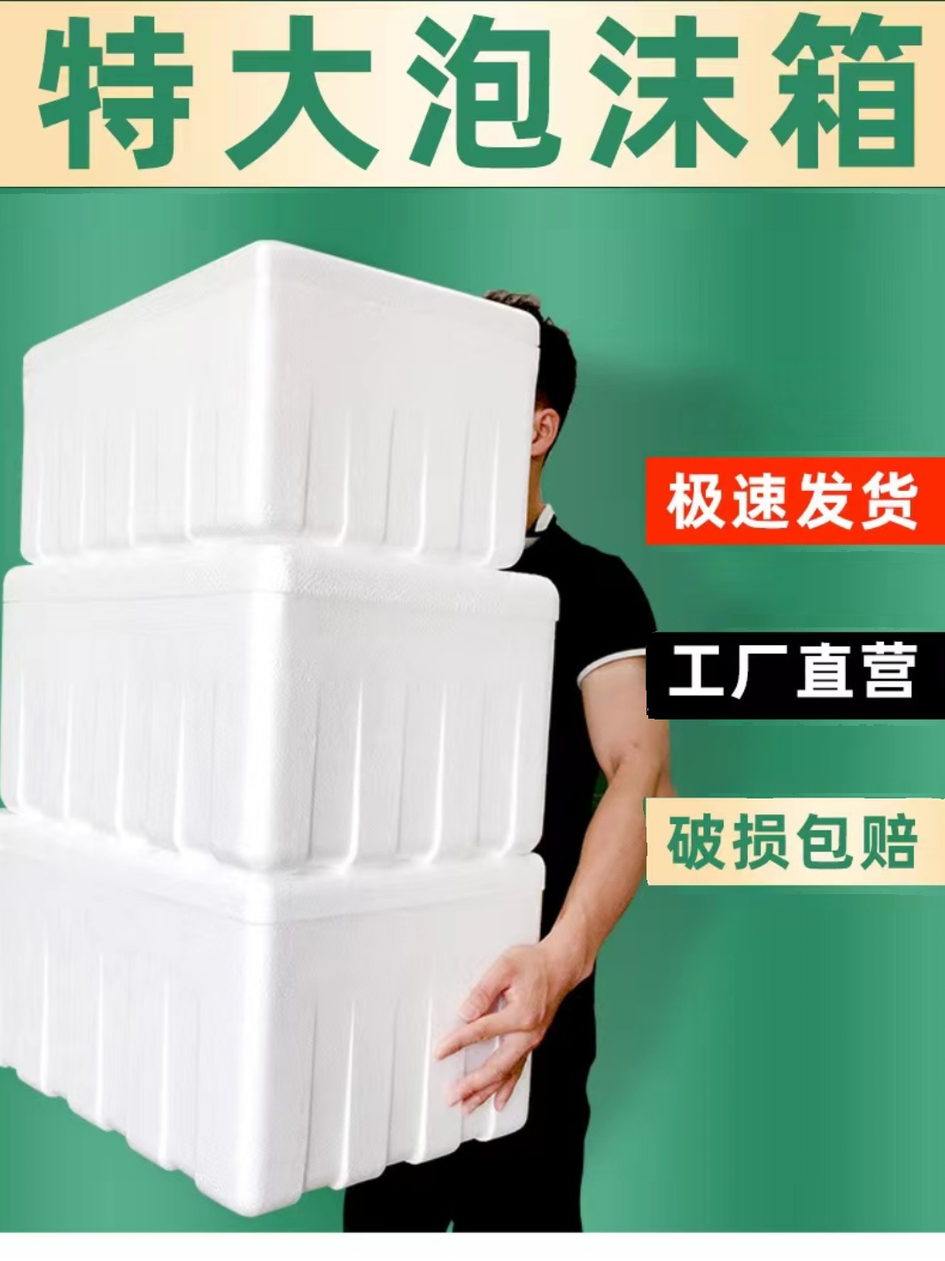泡沫箱: (0, 243, 558, 1215)
